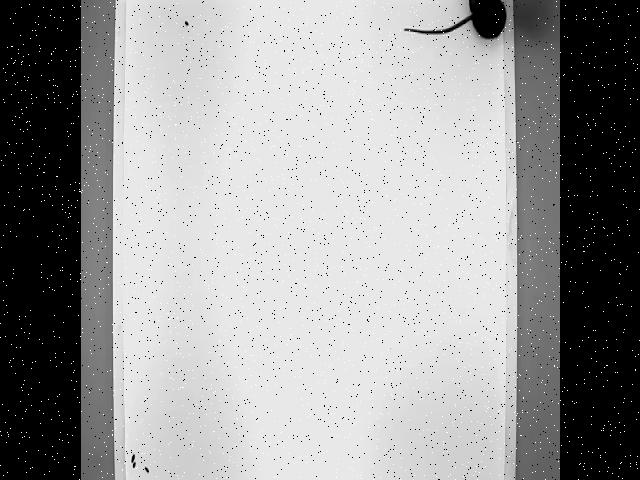Tikus: (404, 0, 508, 40)
